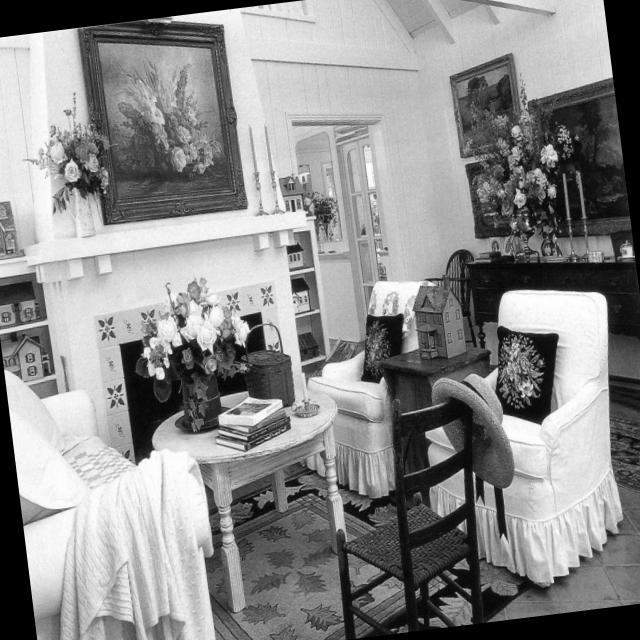area rug: (205, 452, 534, 640), (611, 415, 640, 491)
basket crop: (241, 322, 295, 407)
blanket: (60, 449, 213, 640), (367, 281, 428, 337)
books crop: (475, 251, 507, 262)
candle holder: (262, 125, 280, 216), (247, 126, 264, 214)
candle light: (563, 172, 580, 259), (291, 372, 318, 417), (577, 171, 591, 257)
chair -occluded-: (425, 288, 623, 587), (336, 398, 483, 638), (306, 281, 431, 498), (424, 248, 476, 346)
coffee table: (152, 387, 349, 611)
decorative house: (412, 273, 467, 359), (1, 330, 46, 380), (0, 282, 45, 326), (0, 200, 25, 255), (280, 171, 305, 211), (291, 275, 312, 315), (296, 330, 320, 362), (286, 239, 304, 269)
end table: (381, 343, 491, 459)
fire log: (311, 336, 357, 376)
fireplace mantle: (30, 9, 302, 463)
flowers: (304, 190, 325, 251)
flowers in pot: (28, 92, 110, 234)
flowers in vase: (463, 72, 578, 261)
hat: (431, 372, 514, 488)
mantle: (25, 210, 307, 282)
painting crop: (79, 18, 248, 222), (528, 77, 631, 237), (450, 51, 524, 157), (466, 152, 534, 237)
picture occluded: (540, 237, 554, 256), (503, 236, 514, 255), (489, 236, 501, 250)
pillow occluded: (495, 321, 559, 425), (361, 312, 403, 382)
plate food: (544, 254, 571, 261)
potted flowers: (135, 275, 250, 431)
seving cup and saucer: (618, 239, 634, 259)
side: (466, 255, 640, 347)
silver canister: (588, 250, 604, 261)
sofa bed: (4, 370, 216, 640)
stack of books: (215, 396, 291, 451)
wall clock: (240, 0, 443, 283)
